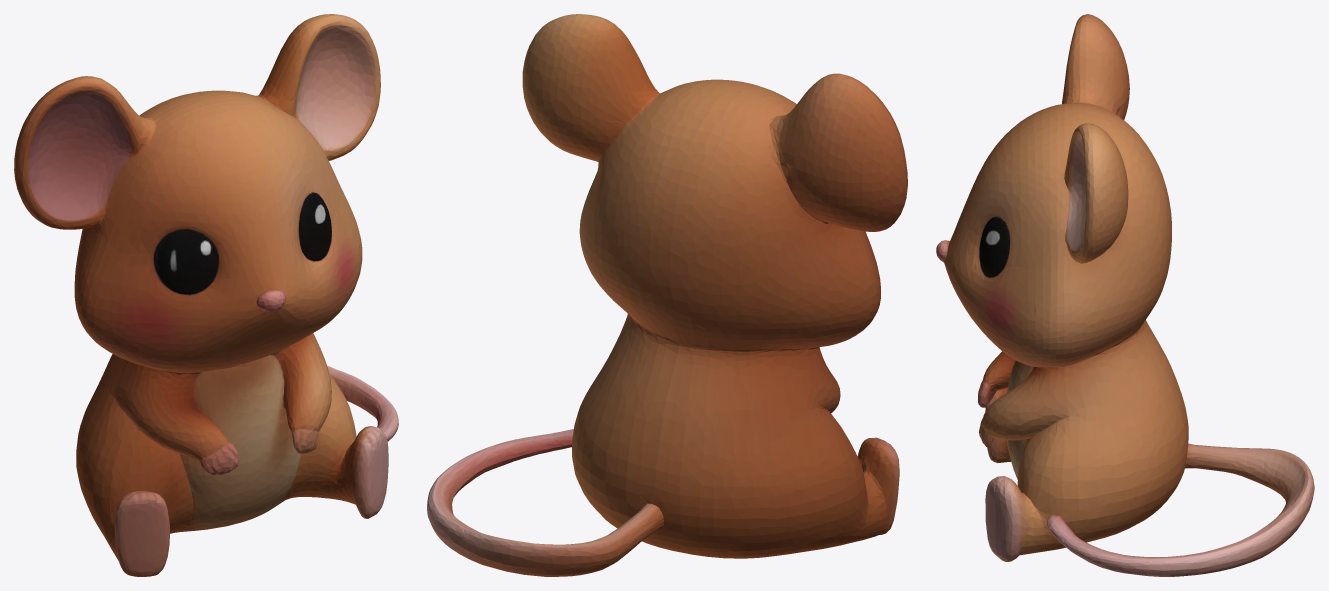
The model's file is rat.glb.
The picture shows the model from 3 angles, left to right: view 1: azimuth 30°, elevation 25°; view 2: azimuth 150°, elevation 25°; view 3: azimuth 270°, elevation 25°; orthographic projection. The views are drawn at different scales.
Visible parts, largest first — view 1: geometry_0; view 2: geometry_0; view 3: geometry_0.
Part boxes in pixels (x1,y1,x2,y2): geometry_0: (14, 14, 398, 576); geometry_0: (427, 14, 907, 576); geometry_0: (936, 14, 1314, 576).
Size of the model in its own units: 0.8928 by 1 by 0.7921.
Materials: 1 (1 with a texture image).
